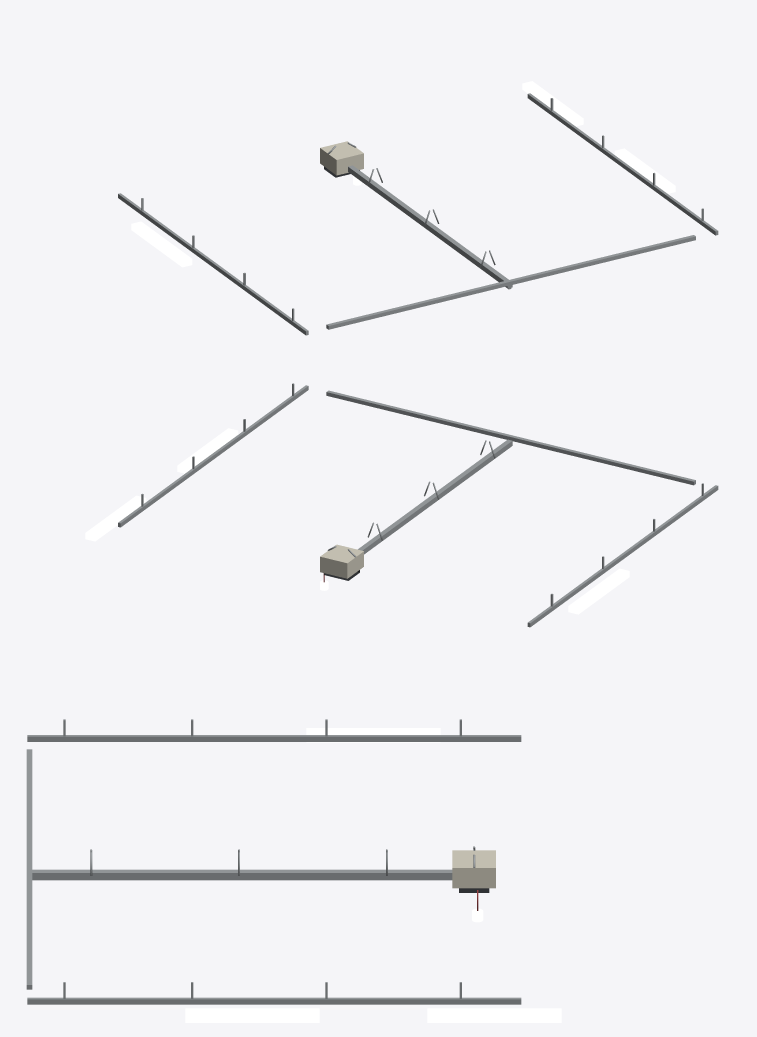
File: garage_ceiling.glb
3 renders of one model, top to bottom at view 1: azimuth 30°, elevation 25°; view 2: azimuth 150°, elevation 25°; view 3: azimuth 270°, elevation 25°, orthographic. The views are drawn at different scales.
Visible parts, largest first — view 1: root; view 2: root; view 3: root.
Boxes of the visible parts, <box> form: root: <box>118,81,718,335</box>; root: <box>85,383,718,627</box>; root: <box>26,719,561,1022</box>.
Bounding box in the file's own units: 6.22 × 0.5899 × 6.61.
